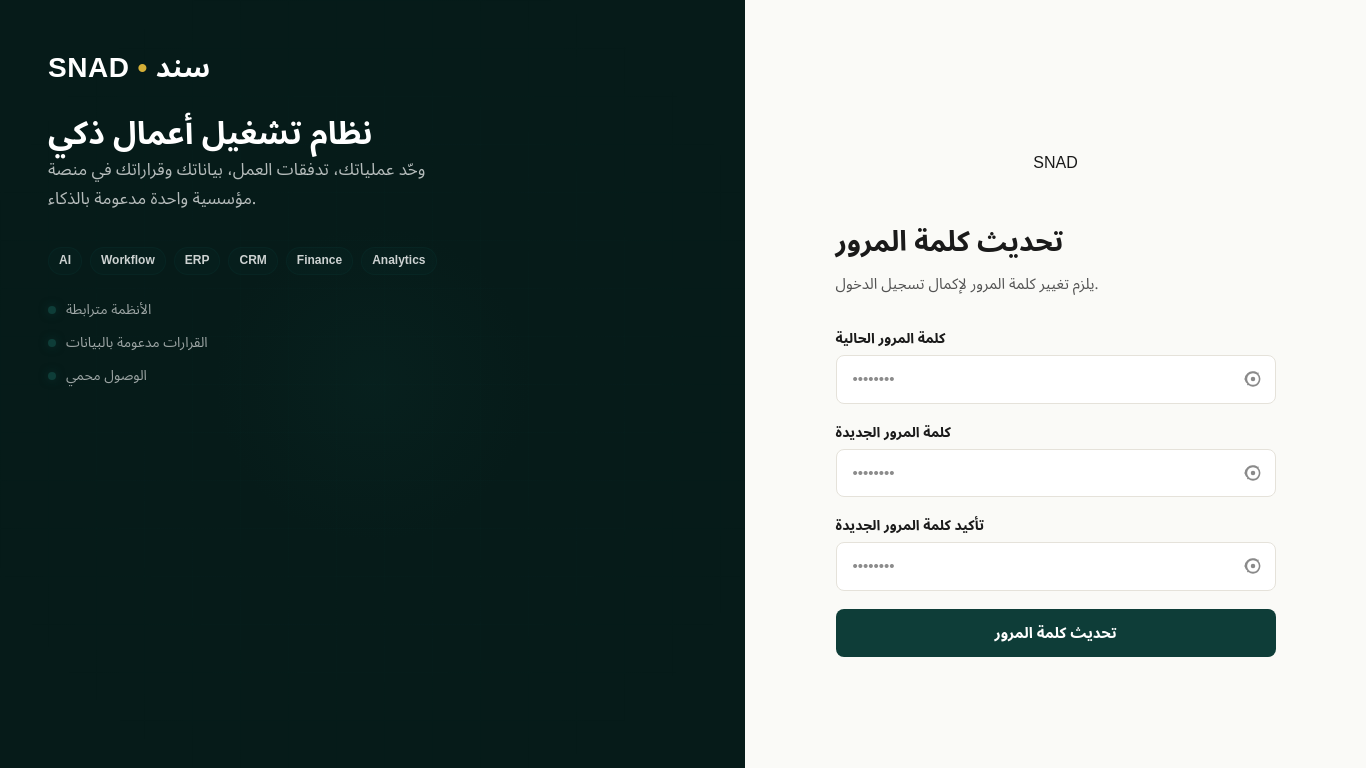
Test: CredentialRotationForm › disables the form during the actual credential request and prevents duplicate submission
In the password field labelled "كلمة المرور الحالية": (1056, 379) [836, 355, 1276, 404], type "OldPass123!"
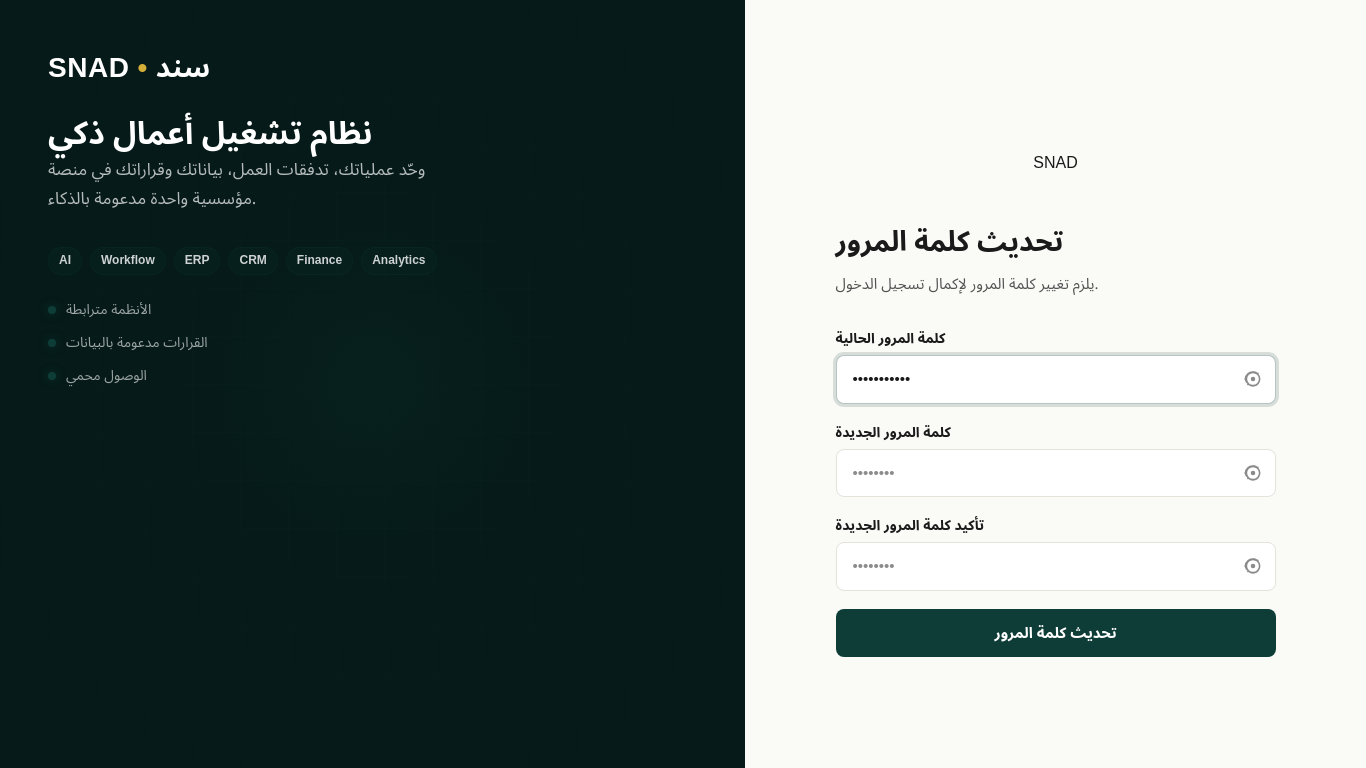
In the password field labelled "كلمة المرور الجديدة": (1056, 473) [836, 448, 1276, 497], type "NewPass456!"
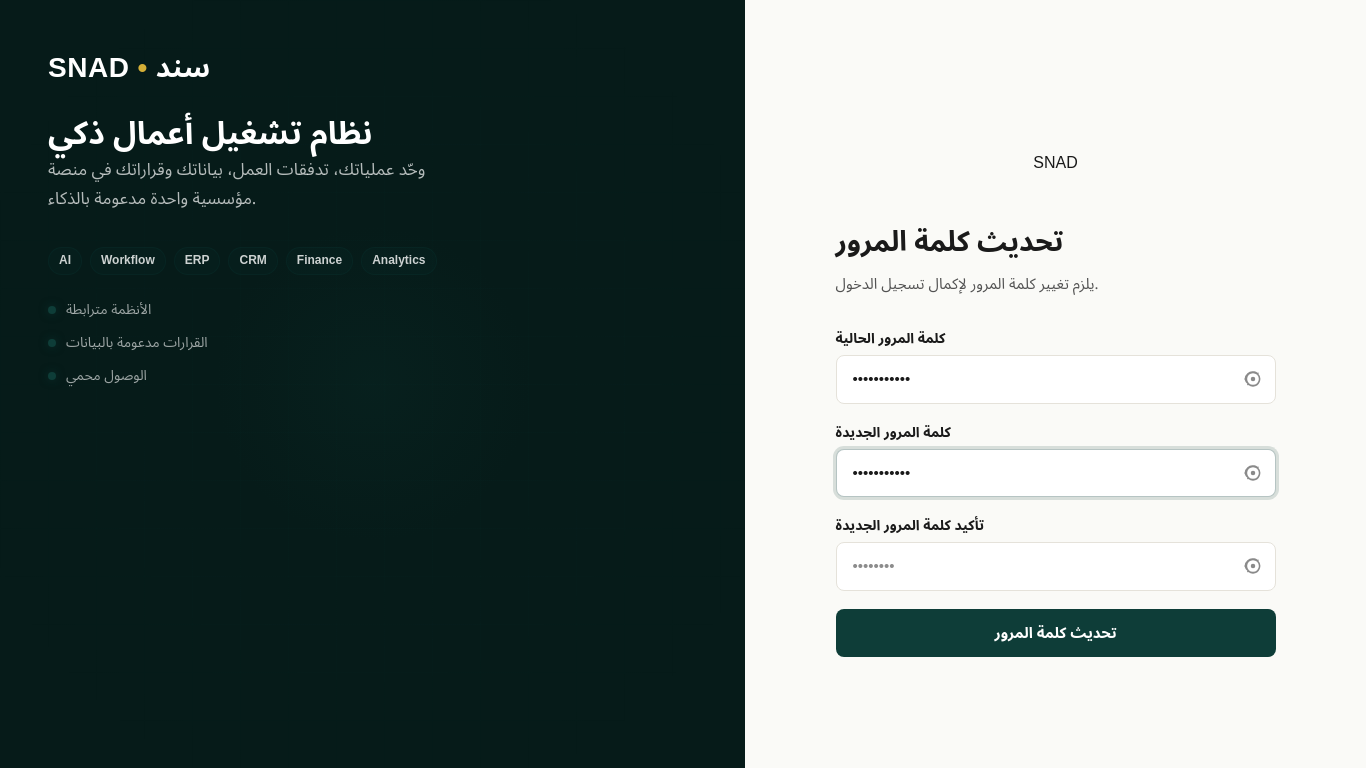
In the password field labelled "تأكيد كلمة المرور الجديدة": (1056, 566) [836, 542, 1276, 590], type "NewPass456!"
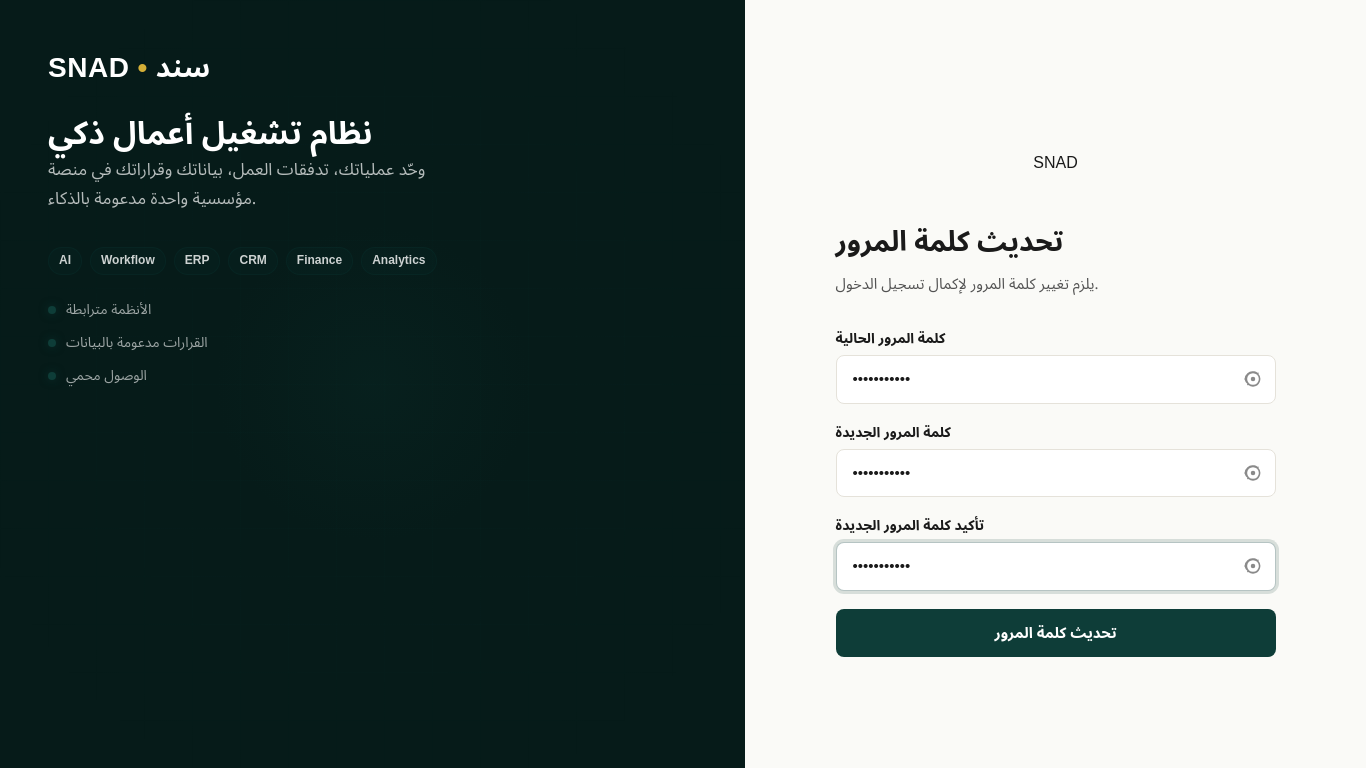
Click the button "تحديث كلمة المرور": click(1056, 633) [836, 608, 1276, 657]
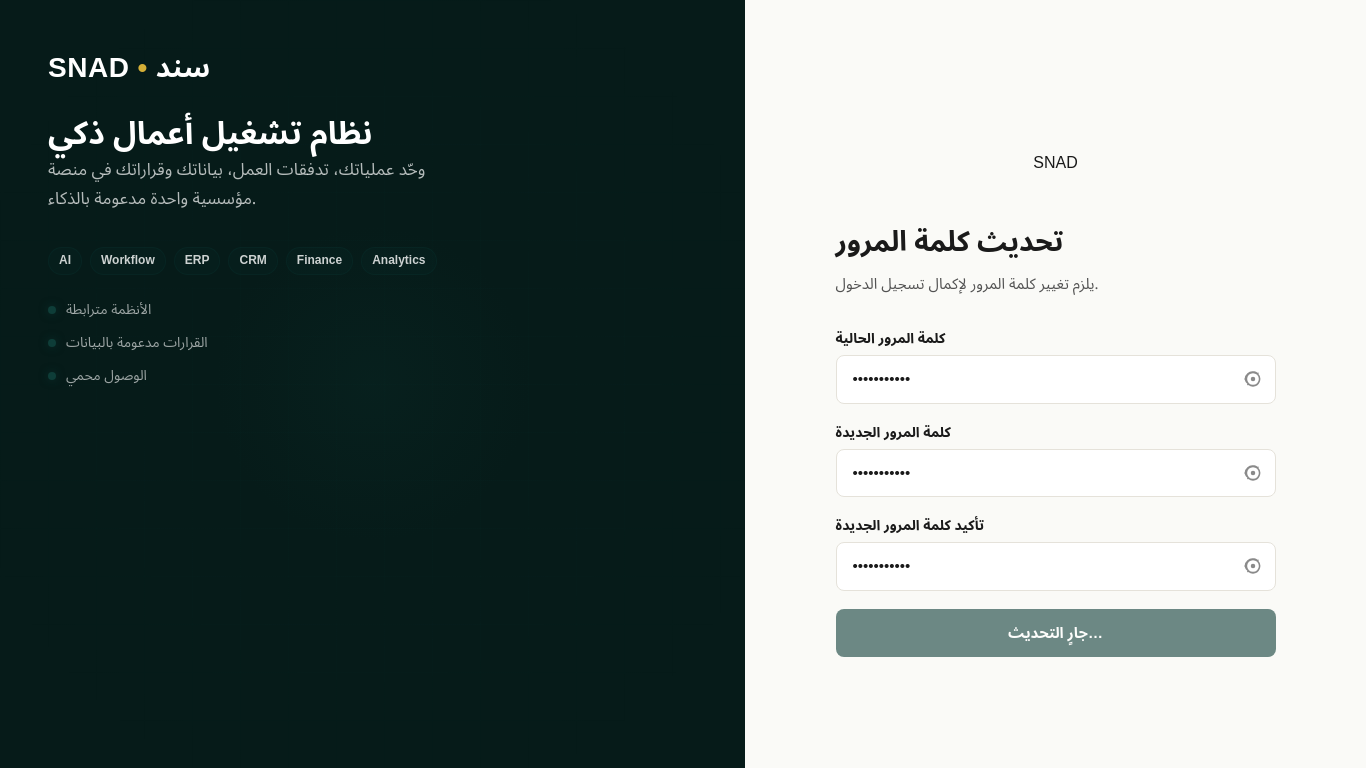
Now the button "جارٍ التحديث…" is disabled
Try clicking again — should NOT result in a second call
Click the button "جارٍ التحديث…": click(1056, 633) [836, 608, 1276, 657]
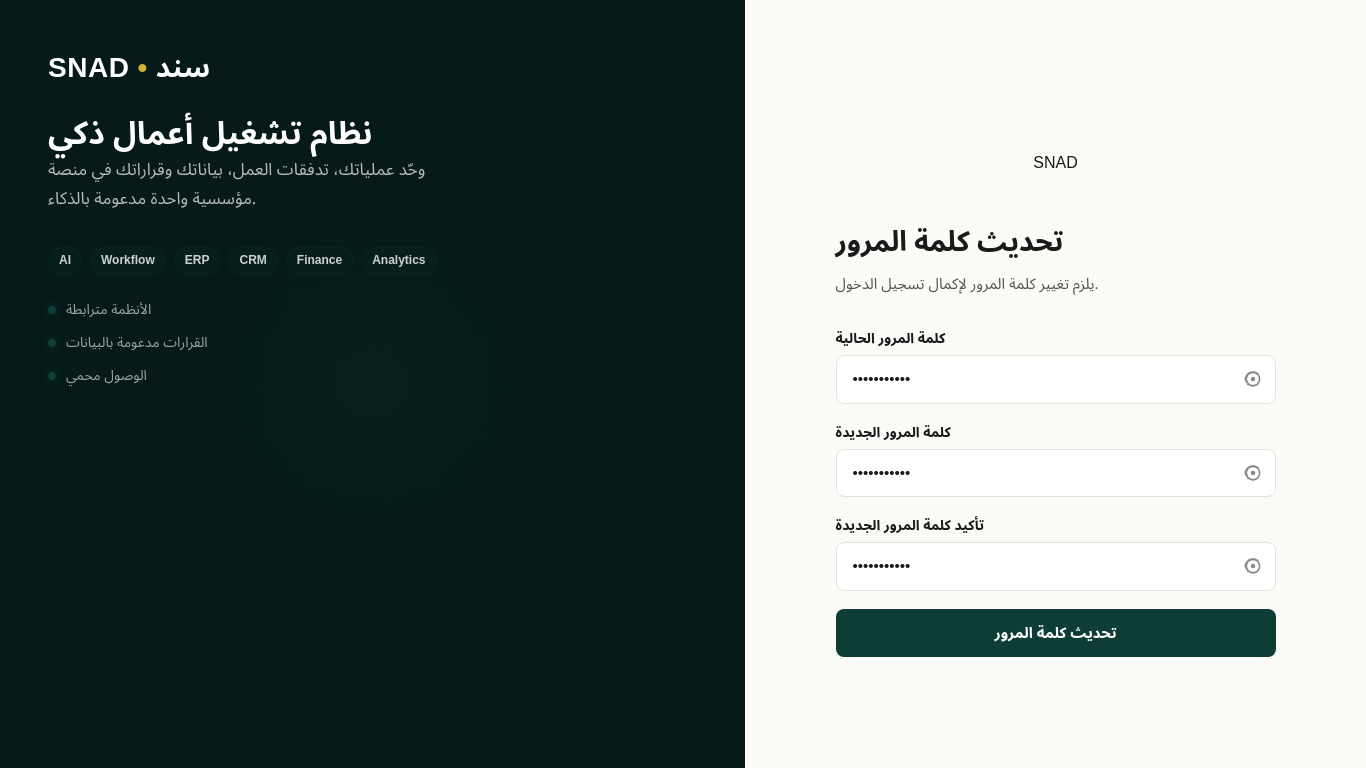
Now the button "تحديث كلمة المرور" is enabled, box [836, 608, 1276, 657]
